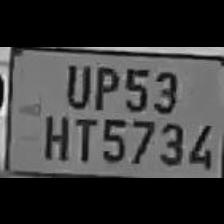3: (156, 118, 184, 164), (151, 67, 179, 111)
4: (185, 116, 213, 168)
5: (97, 113, 127, 162), (119, 62, 149, 110)
7: (128, 114, 154, 164)
H: (38, 110, 70, 160)
P: (91, 59, 119, 109)
T: (70, 111, 96, 163)
U: (60, 58, 90, 108)
